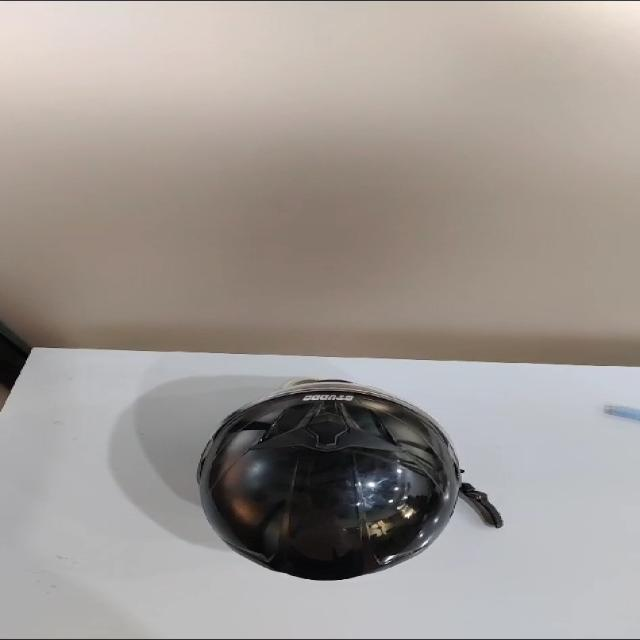helmet: (192, 369, 476, 591)
